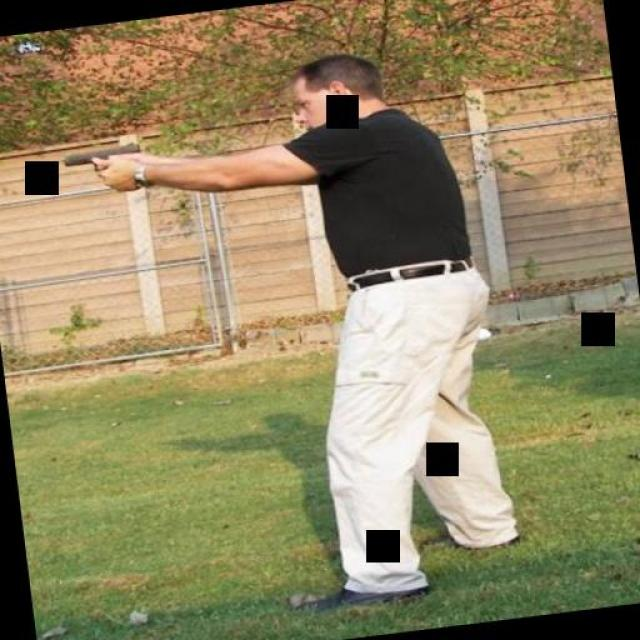gun: (60, 138, 142, 182)
